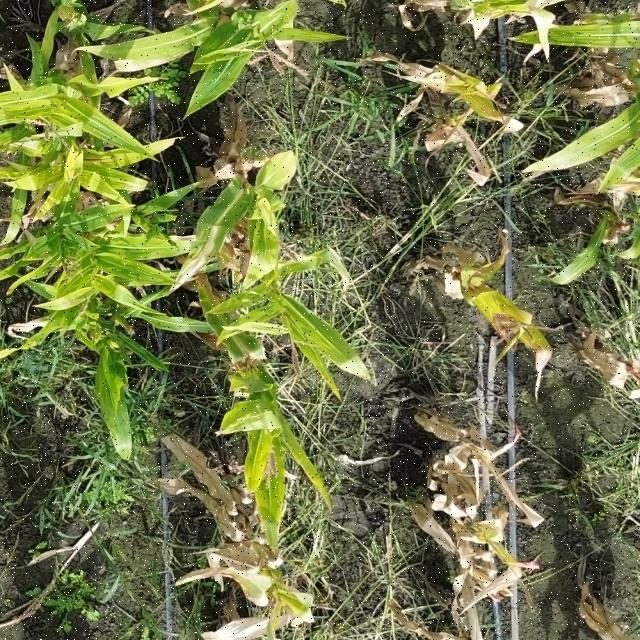northern-leaf-blight: (185, 221, 223, 284), (81, 154, 135, 168)
southern-leaf-blight: (42, 36, 58, 56)
